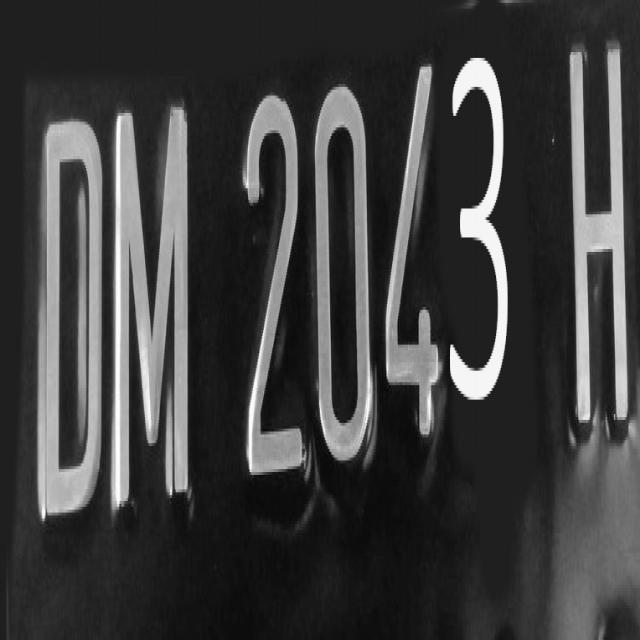0: (313, 70, 383, 470)
2: (240, 90, 310, 512)
3: (440, 45, 520, 410)
4: (384, 56, 446, 431)
D: (30, 112, 104, 524)
H: (558, 30, 640, 442)
M: (100, 98, 217, 519)
